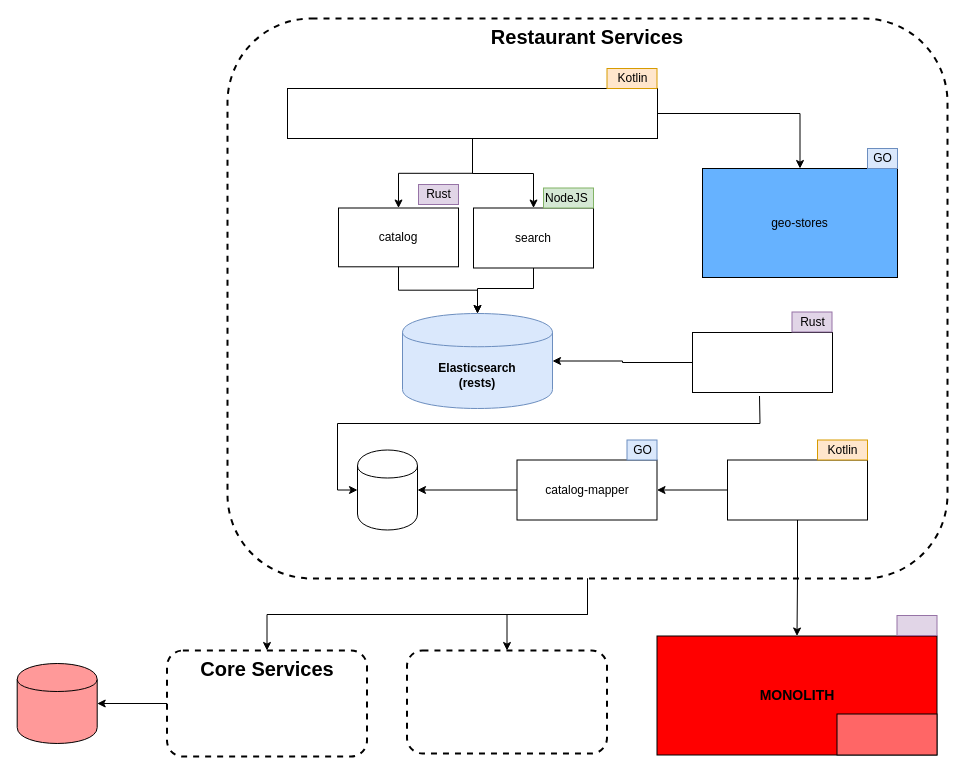
Some shapes in this 966 by 774 pixel diagram are drawn without their labels. Each missing label, with the centre of its shape:
CMS: (x=886, y=734)
data-sync: (x=797, y=489)
ElasticSearch (core): (x=56, y=703)
Growth Services: (x=507, y=701)
PHP: (x=916, y=625)
Redis: (x=387, y=489)
Restaurant-bus: (x=472, y=113)
syncher: (x=762, y=362)
